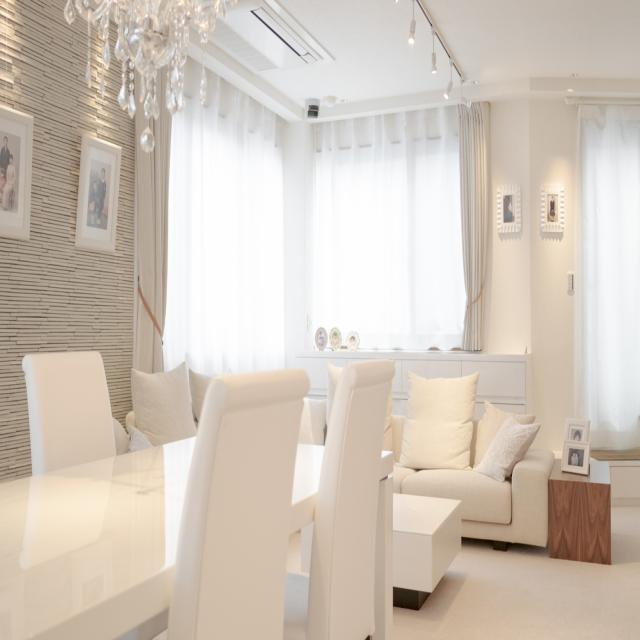white chair: (155, 372, 310, 635)
white sofa: (397, 348, 556, 583)
